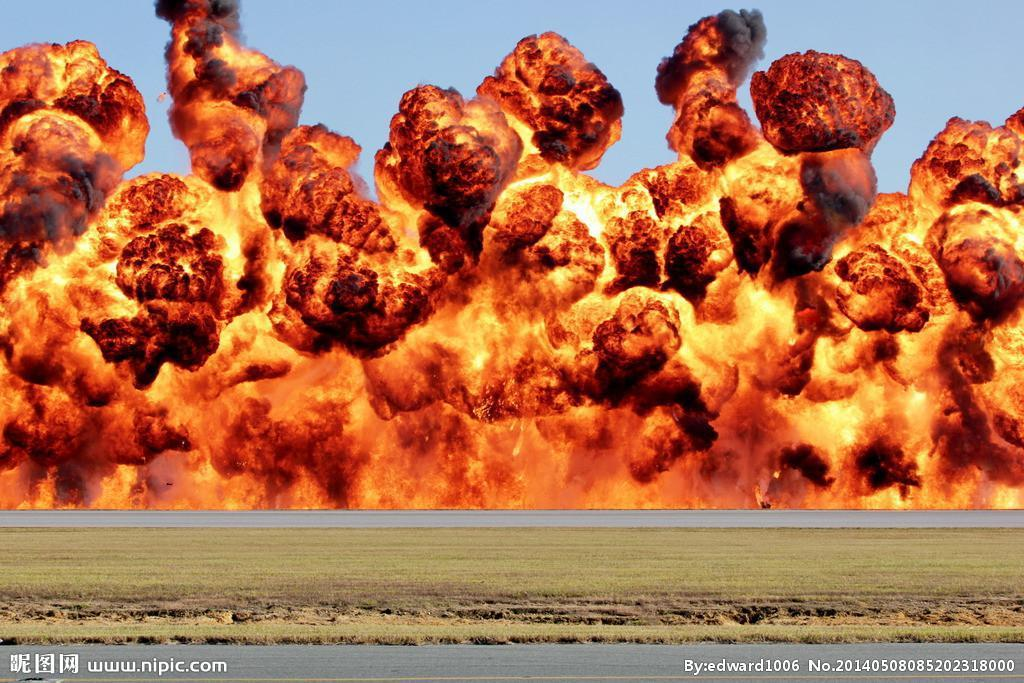fire: (0, 0, 1022, 516)
